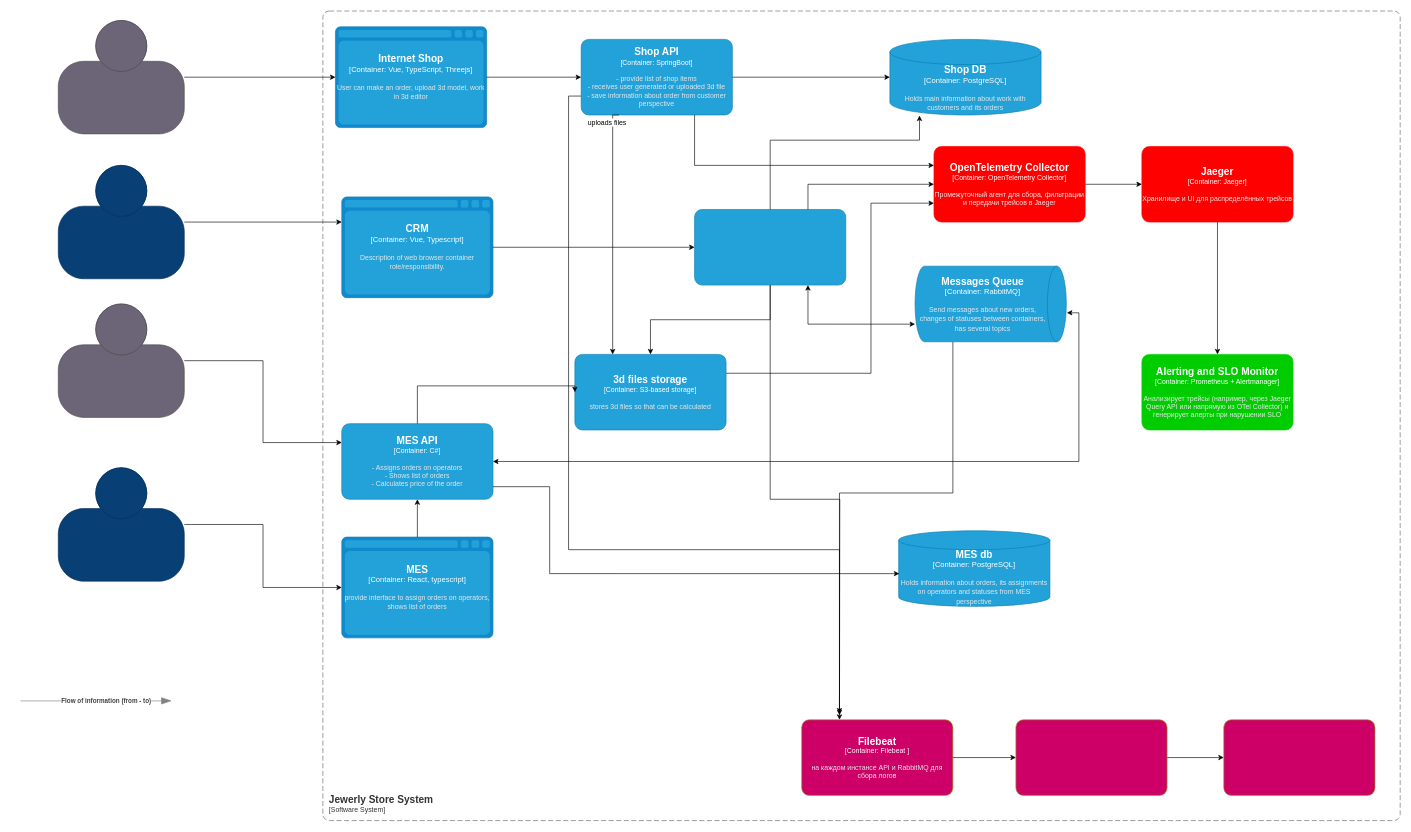
Some shapes in this 1411 by 832 pixel diagram are drawn without their labels. Each missing label, with the centre of its shape:
"API user [Person] Description of external person." goes at (x=121, y=360).
"CRM API [Container: SpringBoot] Description of container role/responsibility." goes at (x=770, y=247).
"Customer [Person] Description of external person." goes at (x=121, y=77).
"Kibana [Container: Kibana] визуализация и поиск" goes at (x=1299, y=757).
"OpenSearch [Container: OpenSearch] хранение и индексация" goes at (x=1091, y=757).
"Operator [Person] Takes order in work, manufactures jewerly" goes at (x=121, y=524).
"Seller [Person] Operates with order, confirms manufacturing for the user" goes at (x=121, y=222).
